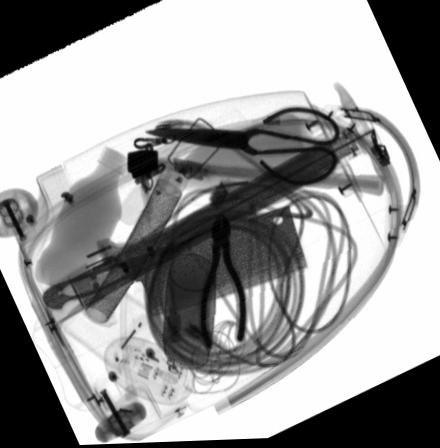Hammer: (171, 158, 383, 198)
Knife: (40, 206, 308, 318)
Pliers: (196, 214, 247, 353)
Scissors: (143, 106, 342, 190)
